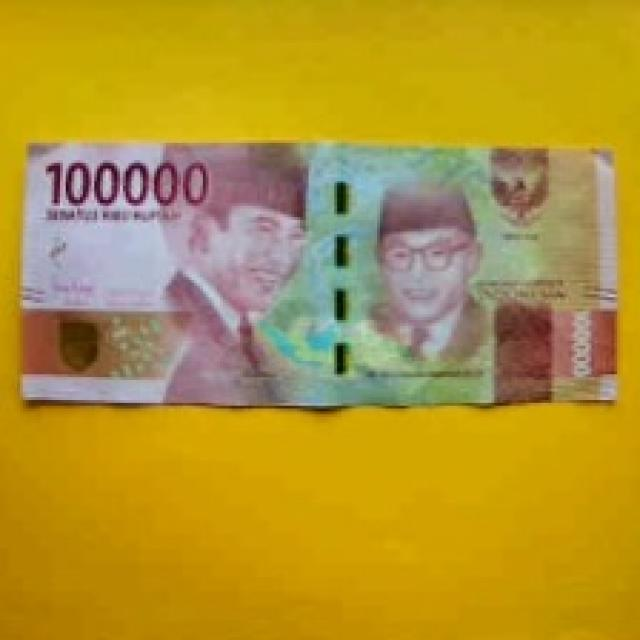lima puluh ribu rupiah: (13, 131, 640, 435)
